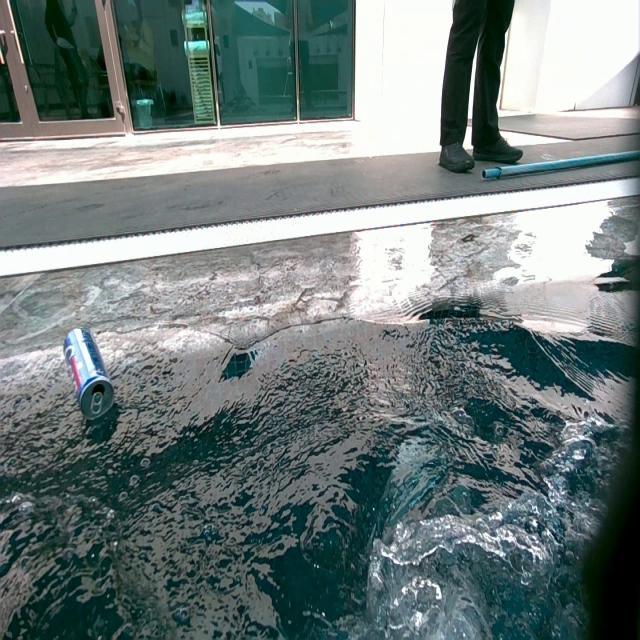Cans: (62, 326, 116, 427)
